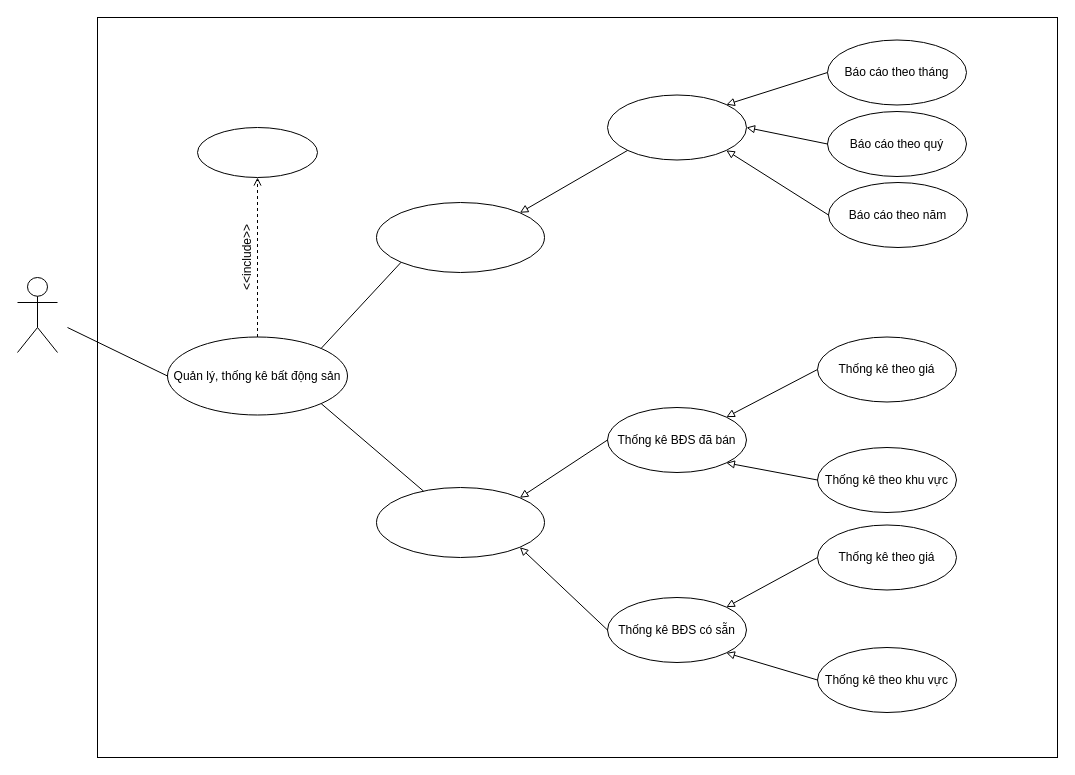
The diagram is 1075 pixels wide and 775 high, and some of its shapes have lost their labels. The box of each missing label's shape, as (x1, y1, x2, y2) in pixels:
Admin: (16, 276, 58, 352)
Lập báo cáo: (376, 202, 544, 272)
Lập báo cáo doanh số: (606, 94, 746, 160)
Thống kê: (376, 486, 544, 558)
Đăng nhập: (196, 126, 318, 178)
